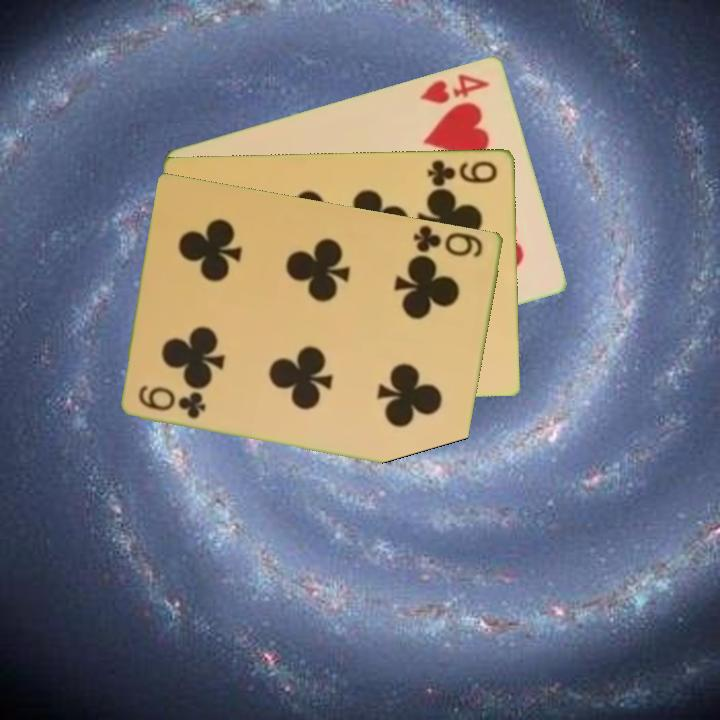4h: (416, 69, 493, 106)
6c: (135, 381, 210, 422), (410, 222, 486, 260)
9c: (424, 156, 501, 188)
